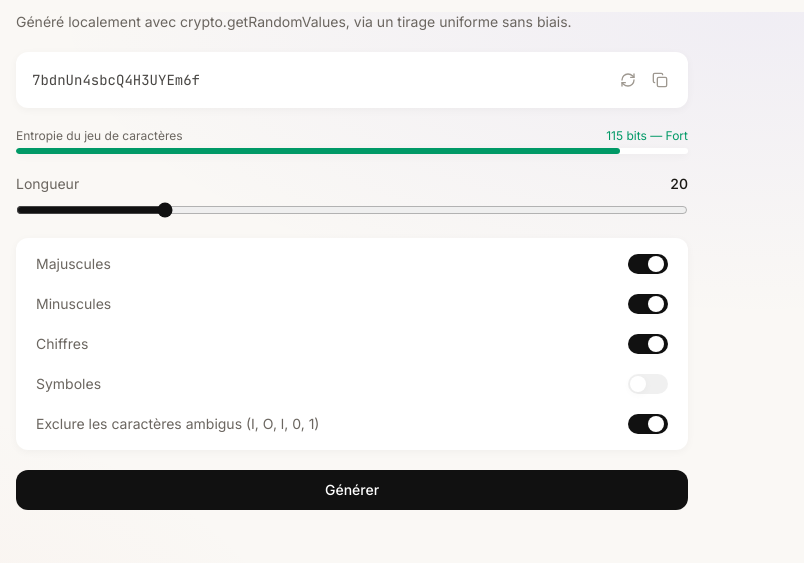
GeneratorTab › refuses to generate when every character class is off
The width and height of the screenshot is (804, 563).
Click the switch named "Majuscules": (648,264) [628, 254, 668, 274]
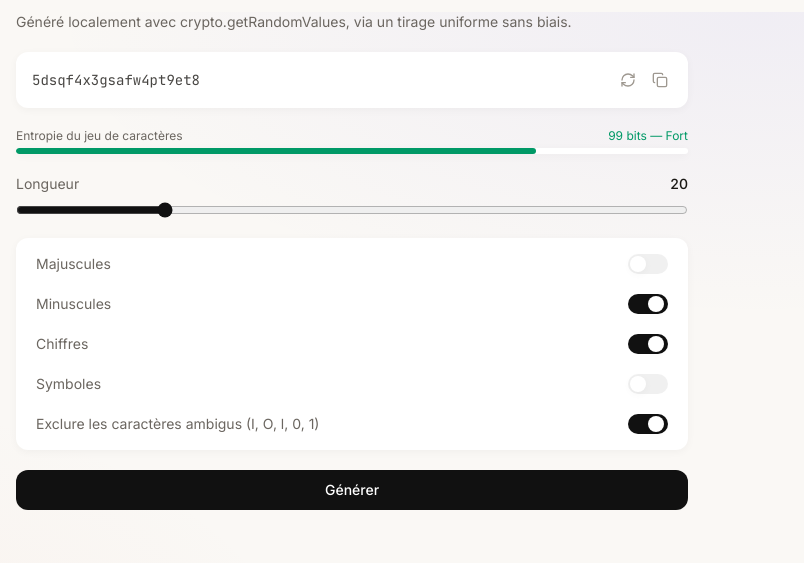
Click the switch named "Minuscules": (648,304) [628, 294, 668, 314]
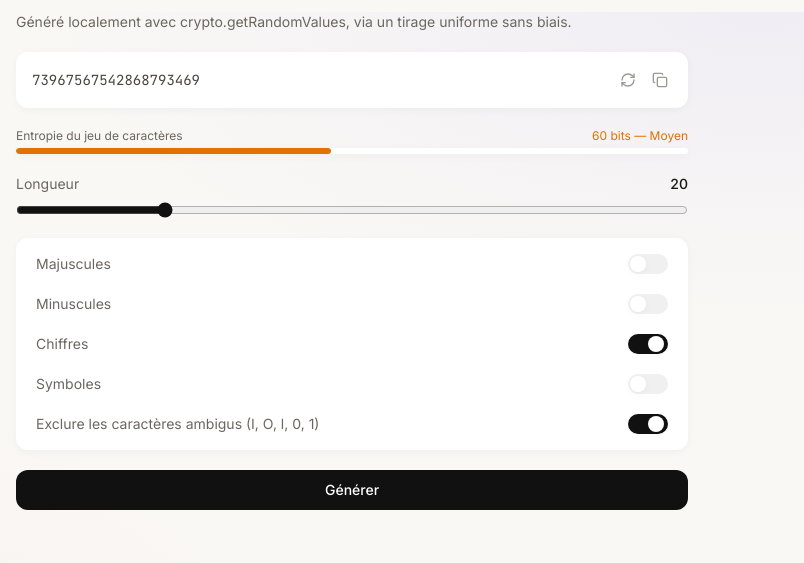
Click the switch named "Chiffres": (648,344) [628, 334, 668, 354]
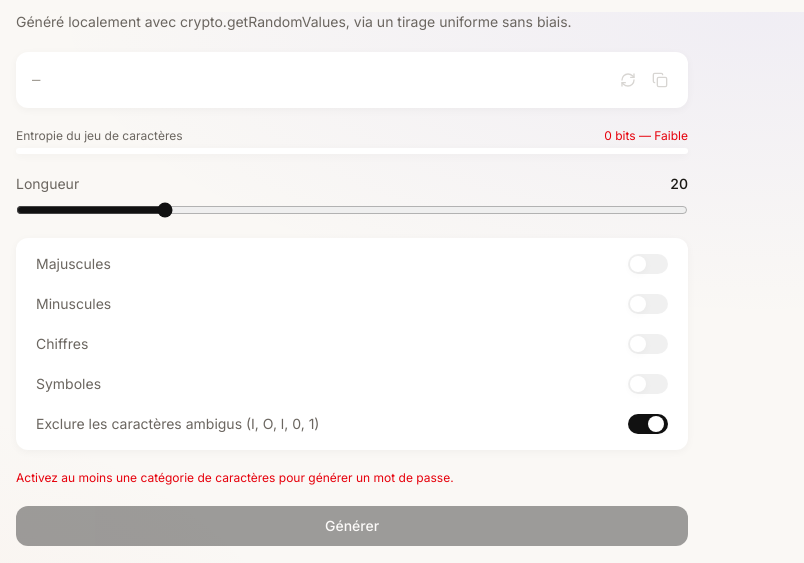
Now the text "Activez au moins une catégorie" is shown, box [16, 470, 454, 485]
Now the button named "Régénérer" is disabled, box [616, 68, 640, 92]
Now the button "Générer" is disabled, box [16, 506, 688, 546]
